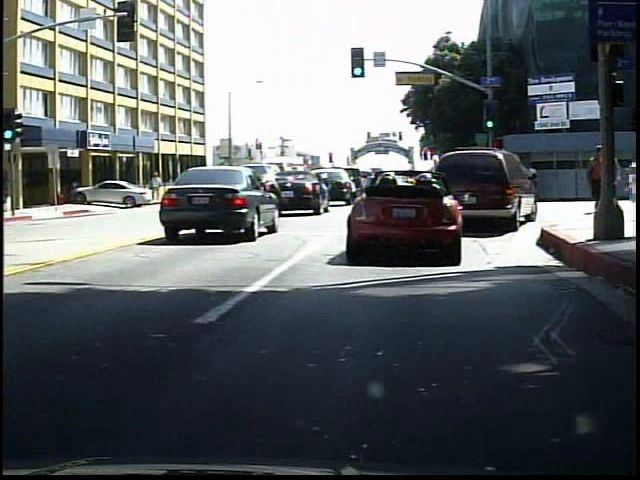person: (577, 143, 603, 223), (620, 162, 635, 219), (142, 171, 161, 205)
